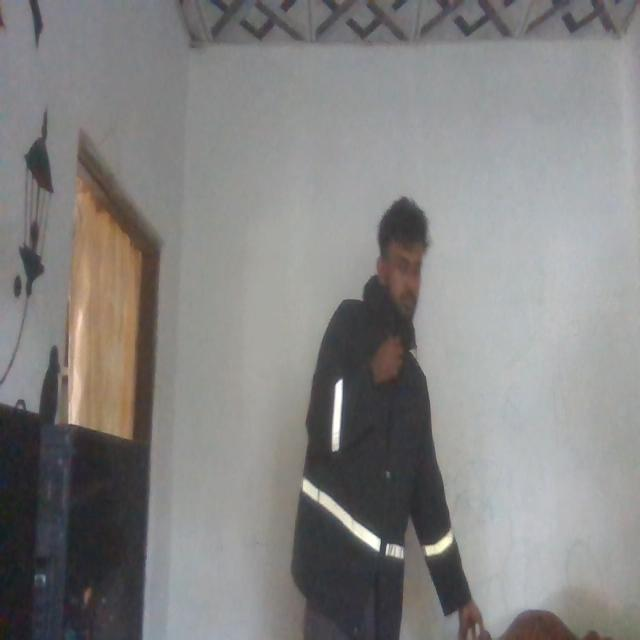Jacket_Wearer: (298, 290, 460, 636)
Person: (299, 166, 458, 640)
